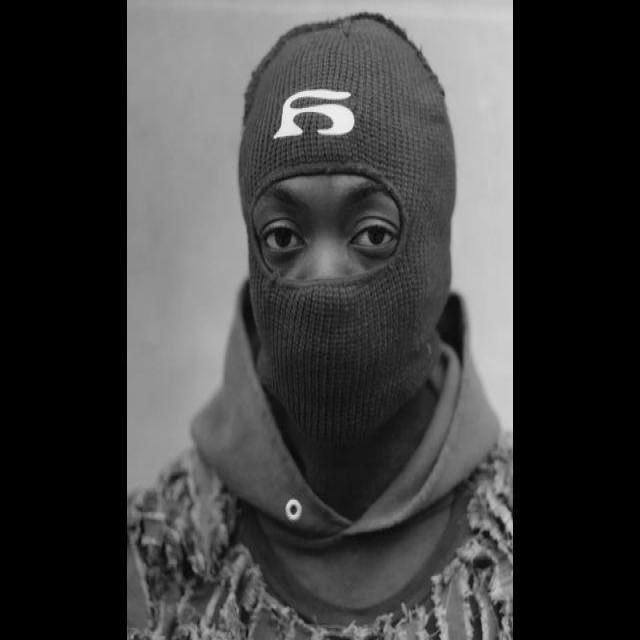6_pasamontana: (240, 12, 457, 431)
